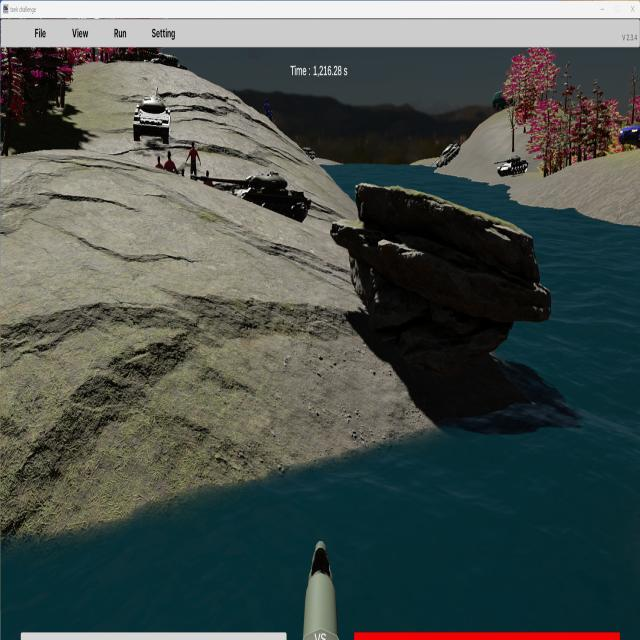Tank: (191, 168, 312, 224), (133, 85, 171, 144)
car: (619, 123, 640, 147)
